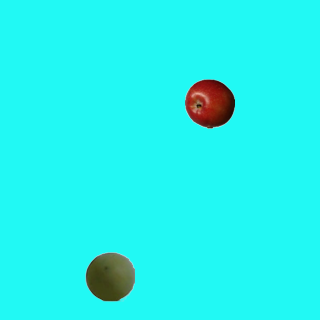Apple Braeburn: (184, 78, 234, 128)
Grape White 4: (84, 251, 134, 301)
